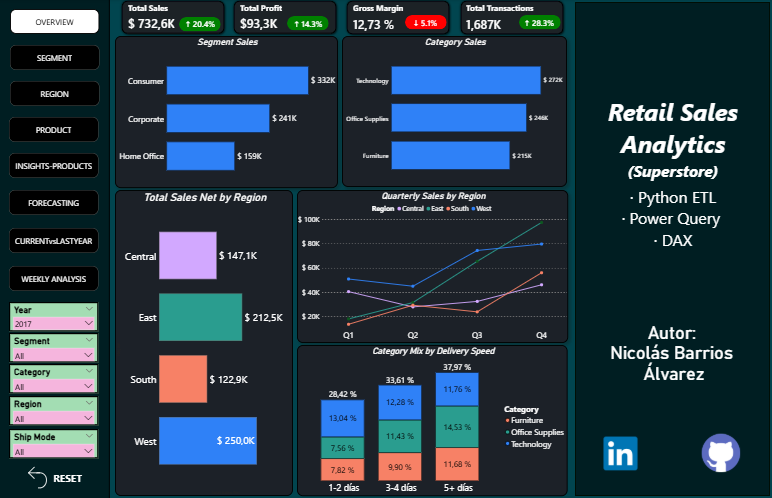

The page's visual inventory and layout, read from the dashboard file:
{"tool":"powerbi","page":{"name":"Overview","canvas":[2600,1800],"ordinal":0},"visuals":[{"type":"shape","title":"KPI Sales (4)","box":[403,128.8,360,128],"z":0,"group":"g1"},{"type":"shape","title":"KPI GM (4)","box":[1153,128.8,360,130],"z":0,"group":"g3"},{"type":"shape","title":"KPI Profit (4)","box":[776.4,129.4,360,128],"z":0,"group":"g2"},{"type":"shape","title":"KPI TT (4)","box":[1532,129.8,360,130],"z":0,"group":"g4"},{"type":"barChart","title":"Segment Sales","fields":{"Category":["DimCustomer.Segment"],"Y":["DAX Measures.Total Sales Net"]},"box":[389.7,255.5,743.3,506.7],"z":0,"group":"g5"},{"type":"shape","title":"Rectangle","box":[0,0,372.5,1900],"z":1000},{"type":"cardVisual","title":"KPI Profit (3)","fields":{"Data":["DAX Measures.Total Profit"]},"box":[790,137.9,385,105],"z":1000,"group":"g2"},{"type":"cardVisual","title":"KPI GM (3)","fields":{"Data":["DAX Measures.Gross Margin"]},"box":[1165,138.8,384,106],"z":1000,"group":"g3"},{"type":"cardVisual","title":"KPI Sales (3)","fields":{"Data":["DAX Measures.Total Sales Net"]},"box":[417.2,139.9,385,105],"z":1000,"group":"g1"},{"type":"cardVisual","title":"KPI TT (3)","fields":{"Data":["DAX Measures.Total Transactions"]},"box":[1543.1,140.8,330,106],"z":1000,"group":"g4"},{"type":"barChart","title":"Category Sales","fields":{"Y":["DAX Measures.Total Sales"],"Category":["DimProduct.Category"]},"box":[1146.4,255.5,750,503.3],"z":1000,"group":"g5"},{"type":"shape","title":"KPI GM (2)","box":[1356.6,186.5,139.3,48.3],"z":2000,"group":"g3"},{"type":"shape","title":"KPI TT (2)","box":[1735.6,187.5,139.3,48.3],"z":2000,"group":"g4"},{"type":"shape","title":"KPI Sales (2)","box":[603.5,191.1,139.3,48.3],"z":2000,"group":"g1"},{"type":"shape","title":"KPI Profit (2)","box":[964.3,191.1,139.3,48.3],"z":2000,"group":"g2"},{"type":"actionButton","title":"B. Overview Pu","box":[40,165,297.5,82.5],"z":3000},{"type":"cardVisual","title":"KPI GM (1)","fields":{"Data":["DAX Measures.YoY% Gross Margin"]},"box":[1344.7,174.8,161.2,60],"z":3000,"group":"g3"},{"type":"cardVisual","title":"KPI TT (1)","fields":{"Data":["DAX Measures.YoY% Total Transactions"]},"box":[1723.7,175.8,161.2,60],"z":3000,"group":"g4"},{"type":"cardVisual","title":"KPI Sales (1)","fields":{"Data":["DAX Measures.YoY%"]},"box":[591.6,179.4,161.2,60],"z":3000,"group":"g1"},{"type":"cardVisual","title":"KPI Profit (1)","fields":{"Data":["DAX Measures.YoY% Profit"]},"box":[952.3,179.4,161.2,60],"z":3000,"group":"g2"},{"type":"lineChart","title":"Quarterly Sales by Region","fields":{"Y":["DAX Measures.Total Sales"],"Category":["DimDate.Quarter"],"Series":["DimGeography.Region"]},"box":[995.7,768.8,904,510],"z":3000,"group":"g5"},{"type":"columnChart","title":"Category Mix by Delivery Speed","fields":{"Category":["FactSales.Shipping Group"],"Y":["DAX Measures.% Total Selection"],"Series":["DimProduct.Category"]},"box":[998,1286,902,504],"z":3500,"group":"g5"},{"type":"actionButton","title":"B. Segment NP","box":[40,285,297.5,82.5],"z":4000},{"type":"clusteredBarChart","fields":{"Category":["DimGeography.Region"],"Y":["DAX Measures.Total Sales Net"]},"box":[390,770,593.3,1020],"z":4000,"group":"g5"},{"type":"group","id":"g1","title":"KPI Sales","box":[403,128.8,399.2,128],"z":5000,"group":"g5"},{"type":"group","id":"g2","title":"KPI Profit","box":[776.4,129.4,400,126.7],"z":6000,"group":"g5"},{"type":"group","id":"g3","title":"KPI GM","box":[1153,128.8,396,130],"z":7000,"group":"g5"},{"type":"group","id":"g4","title":"KPI TT","box":[1532,129.8,360,130],"z":8000,"group":"g5"},{"type":"actionButton","title":"B. Region NP","box":[40,407.5,297.5,82.5],"z":8000},{"type":"actionButton","title":"B. Product NP","box":[37.5,525,297.5,82.5],"z":12000},{"type":"actionButton","title":"B. Ins.Products NP","box":[37.5,645,297.5,82.5],"z":15000},{"type":"actionButton","title":"B. Ins.Forecasting NP","box":[37.5,770,297.5,82.5],"z":16000},{"type":"actionButton","title":"B. Ins.CurrentVSLast NP","box":[37.5,897.5,297.5,82.5],"z":18000},{"type":"actionButton","title":"B. Ins.WeeklyAnalysis NP","box":[37.5,1022.5,297.5,82.5],"z":20000},{"type":"slicer","fields":{"Values":["DimDate.Year"]},"box":[37.5,1142.5,297.5,97.5],"z":22000},{"type":"slicer","fields":{"Values":["DimCustomer.Segment"]},"box":[37.5,1245,297.5,97.5],"z":23000},{"type":"slicer","fields":{"Values":["DimProduct.Category"]},"box":[37.5,1350.6,297.5,97.5],"z":24000},{"type":"slicer","fields":{"Values":["DimGeography.Region"]},"box":[37.5,1457.5,297.5,97.5],"z":25000},{"type":"slicer","fields":{"Values":["DimShipMode.Ship Mode"]},"box":[37.5,1565,297.5,97.5],"z":26000},{"type":"actionButton","box":[87.5,1682.5,197.5,90],"z":27000},{"type":"group","id":"g5","title":"OVERVIEW","box":[389.7,128.8,1510.3,1661.2],"z":28000}]}

Visuals, with their boxes on the page's 2600x1800 design canvas (x1, y1, x2, y2). These are canvas units, not pixel positions in the 772x498 screenshot, which may show the page scaled, cropped or inside an application window:
"KPI Sales (4)" shape: 403:129:763:257
"KPI GM (4)" shape: 1153:129:1513:259
"KPI Profit (4)" shape: 776:129:1136:257
"KPI TT (4)" shape: 1532:130:1892:260
"Segment Sales" barChart: 390:256:1133:762
"Rectangle" shape: 0:0:372:1900
"KPI Profit (3)" cardVisual: 790:138:1175:243
"KPI GM (3)" cardVisual: 1165:139:1549:245
"KPI Sales (3)" cardVisual: 417:140:802:245
"KPI TT (3)" cardVisual: 1543:141:1873:247
"Category Sales" barChart: 1146:256:1896:759
"KPI GM (2)" shape: 1357:186:1496:235
"KPI TT (2)" shape: 1736:188:1875:236
"KPI Sales (2)" shape: 604:191:743:239
"KPI Profit (2)" shape: 964:191:1104:239
"B. Overview Pu" actionButton: 40:165:338:248
"KPI GM (1)" cardVisual: 1345:175:1506:235
"KPI TT (1)" cardVisual: 1724:176:1885:236
"KPI Sales (1)" cardVisual: 592:179:753:239
"KPI Profit (1)" cardVisual: 952:179:1114:239
"Quarterly Sales by Region" lineChart: 996:769:1900:1279
"Category Mix by Delivery Speed" columnChart: 998:1286:1900:1790
"B. Segment NP" actionButton: 40:285:338:368
clusteredBarChart - DimGeography.Region x DAX Measures.Total Sales Net: 390:770:983:1790
"KPI Sales" group: 403:129:802:257
"KPI Profit" group: 776:129:1176:256
"KPI GM" group: 1153:129:1549:259
"KPI TT" group: 1532:130:1892:260
"B. Region NP" actionButton: 40:408:338:490
"B. Product NP" actionButton: 38:525:335:608
"B. Ins.Products NP" actionButton: 38:645:335:728
"B. Ins.Forecasting NP" actionButton: 38:770:335:852
"B. Ins.CurrentVSLast NP" actionButton: 38:898:335:980
"B. Ins.WeeklyAnalysis NP" actionButton: 38:1022:335:1105
slicer - DimDate.Year: 38:1142:335:1240
slicer - DimCustomer.Segment: 38:1245:335:1342
slicer - DimProduct.Category: 38:1351:335:1448
slicer - DimGeography.Region: 38:1458:335:1555
slicer - DimShipMode.Ship Mode: 38:1565:335:1662
actionButton: 88:1682:285:1772
"OVERVIEW" group: 390:129:1900:1790
